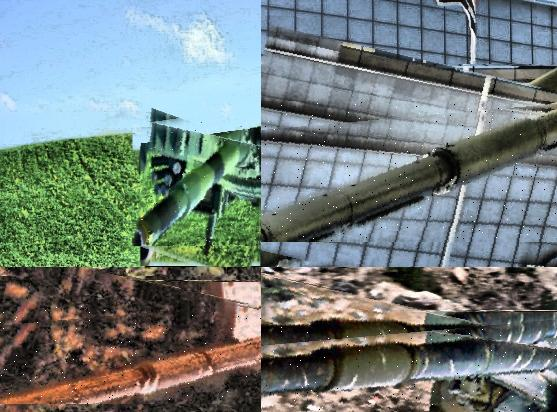tanks: (262, 114, 557, 242), (1, 305, 262, 405), (262, 328, 557, 412), (134, 120, 262, 247)
